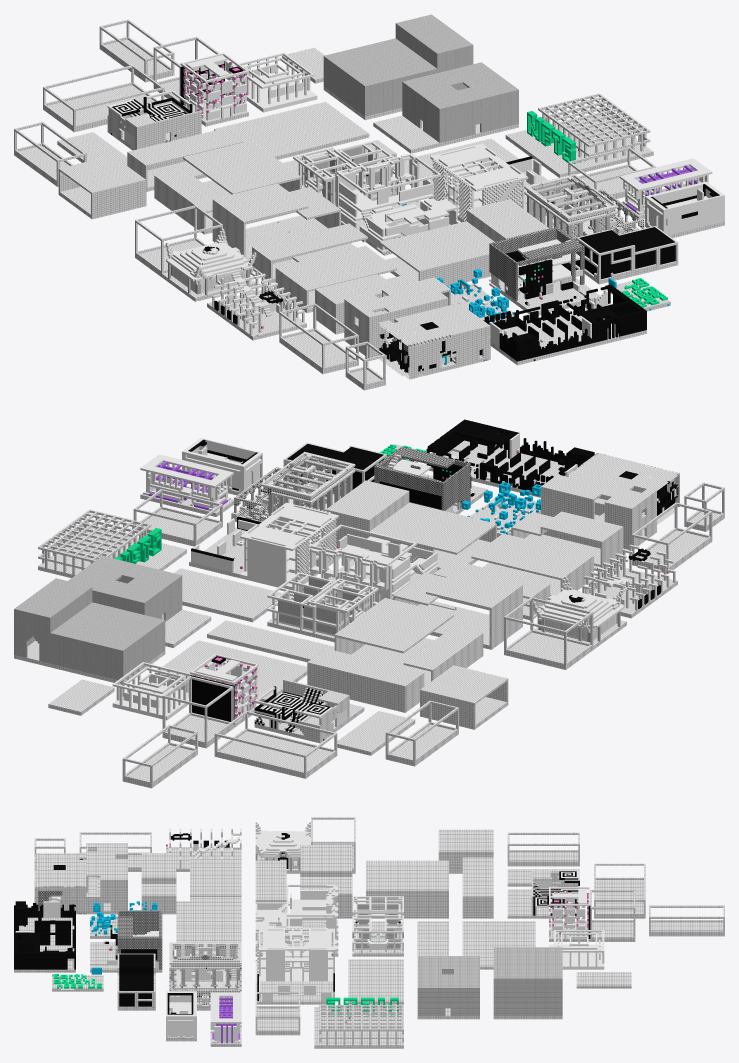
Rendered from LeMarais-v2.glb.
3 renders of one model, top to bottom at view 1: azimuth 30°, elevation 25°; view 2: azimuth 150°, elevation 25°; view 3: azimuth 270°, elevation 25°, orthographic. The views are drawn at different scales.
Parts seen in each view (by area): view 1: solid-voxels_14.009; view 2: solid-voxels_14.009; view 3: solid-voxels_14.009.
Part boxes in pixels (x1,y1,x2,y2): solid-voxels_14.009: (14,14,724,390); solid-voxels_14.009: (14,419,724,788); solid-voxels_14.009: (14,817,724,1048).
Size of the model in its own units: 137 by 13 by 206.
1 material, 1 textured.
